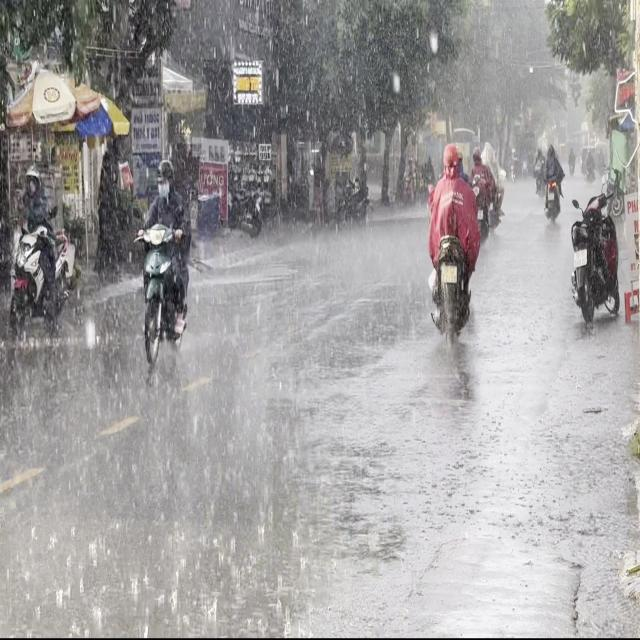helmet: (155, 158, 173, 194), (441, 142, 459, 174), (25, 164, 40, 192)
licenseplate: (131, 156, 197, 367), (424, 140, 481, 344), (7, 160, 70, 338)
nohelmet: (441, 264, 457, 282)
